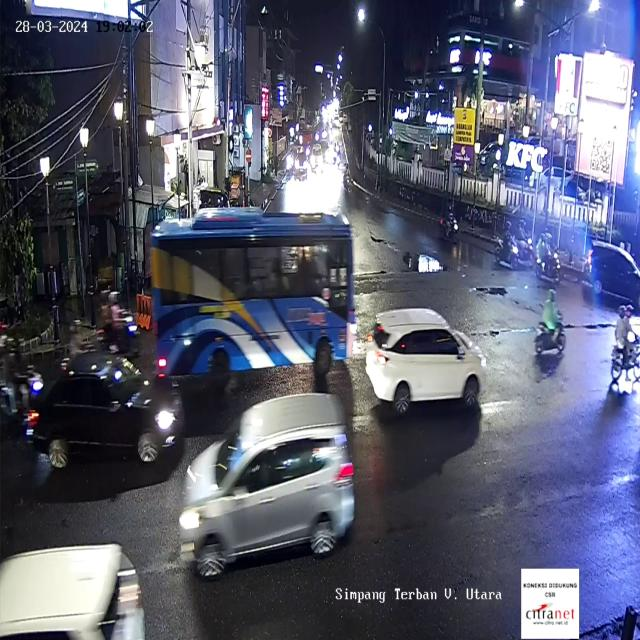bus: (148, 204, 358, 374)
car: (182, 395, 358, 577), (24, 344, 184, 476), (365, 311, 488, 417), (586, 237, 637, 309)
motorcycle: (96, 286, 141, 354), (611, 304, 640, 383), (536, 288, 566, 358), (534, 230, 560, 284), (436, 202, 461, 251), (516, 220, 536, 266), (496, 220, 514, 267)
